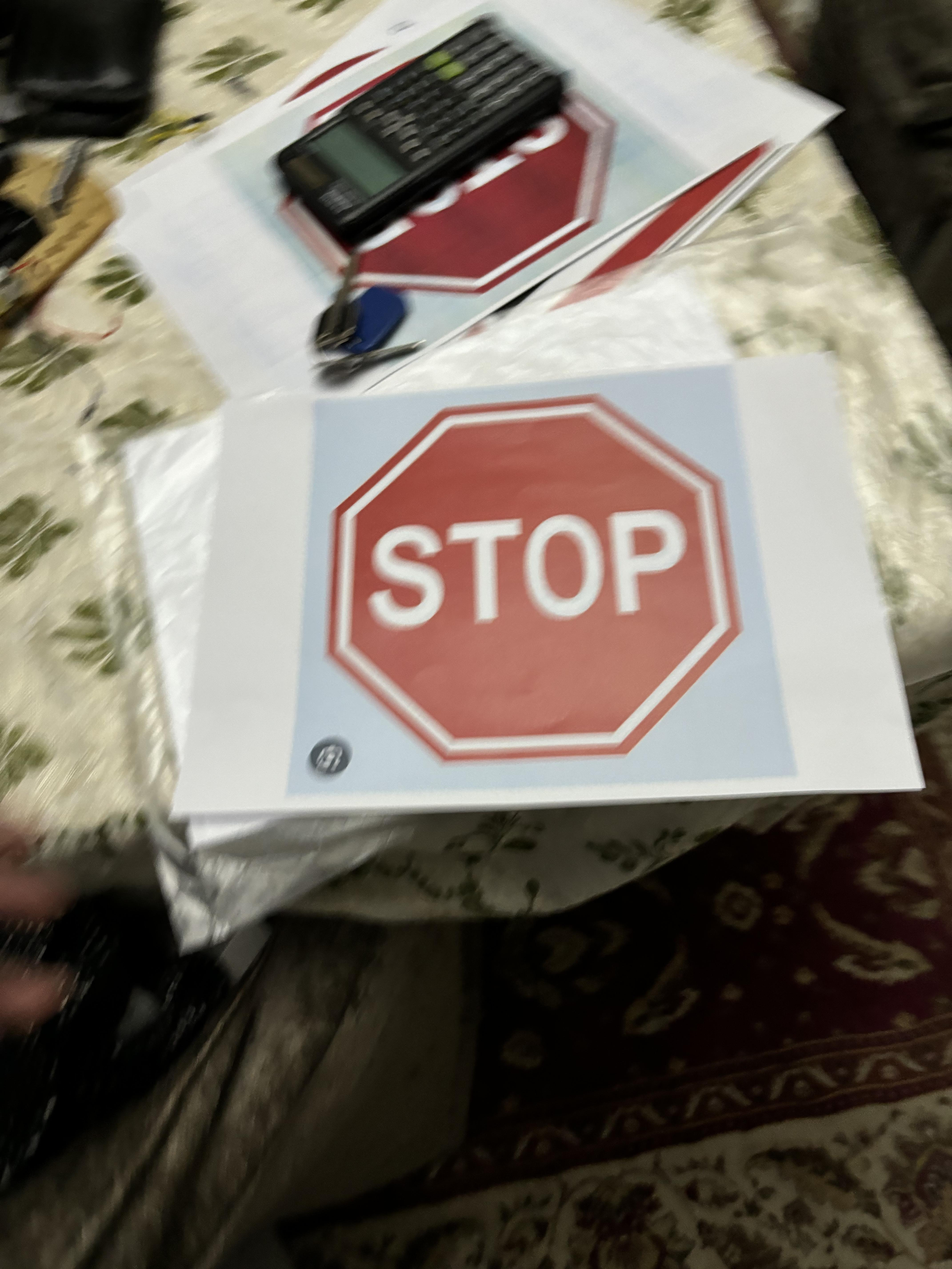Stop: (314, 380, 745, 781)
